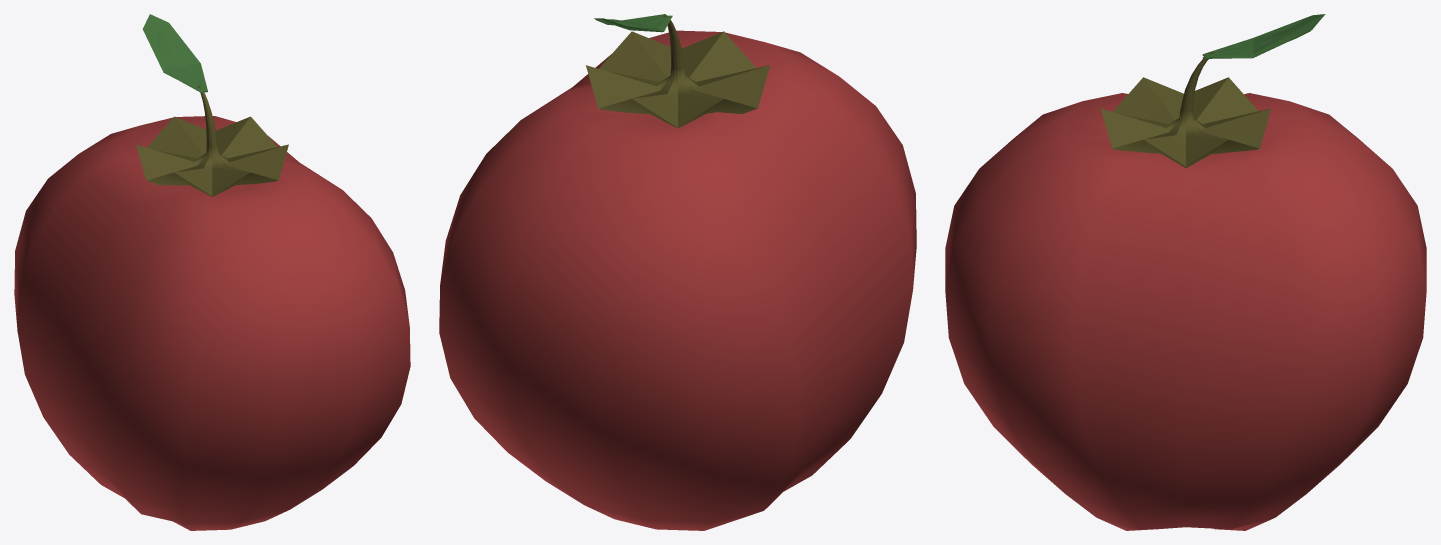
Rendered from Manzana.fbx.
3 renders of one model, left to right at view 1: azimuth 30°, elevation 25°; view 2: azimuth 150°, elevation 25°; view 3: azimuth 270°, elevation 25°, orthographic. The views are drawn at different scales.
Visible parts, largest first — view 1: Manzana; view 2: Manzana; view 3: Manzana.
Part boxes in pixels (x1=…): Manzana: x1=14, y1=14, x2=410, y2=530; Manzana: x1=439, y1=14, x2=916, y2=530; Manzana: x1=945, y1=14, x2=1426, y2=530.
Bounding box in the file's own units: 11.63 × 16.66 × 14.81.
